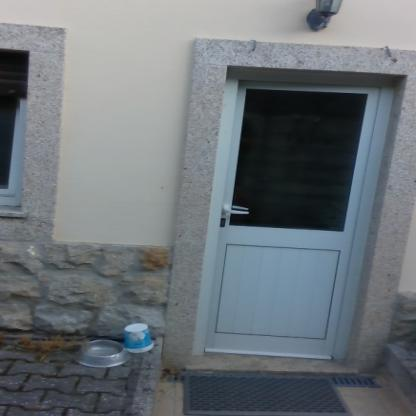door: (226, 81, 364, 360)
lever: (225, 206, 252, 218)
